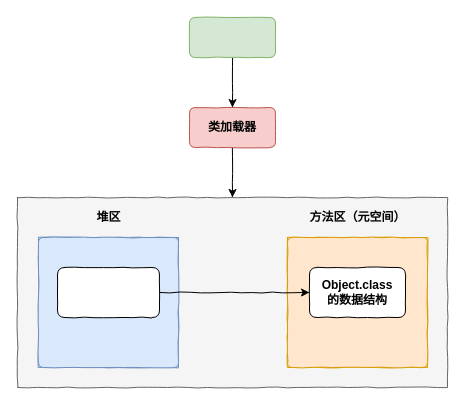
The diagram is 465 pixels wide and 405 high, and some of its shapes have lost their labels. Here are the shapes that lost their labels. From the top down, the centre of each, then its label:
point 232,37: Object.class
point 108,292: Object.class 的 Class 对象
